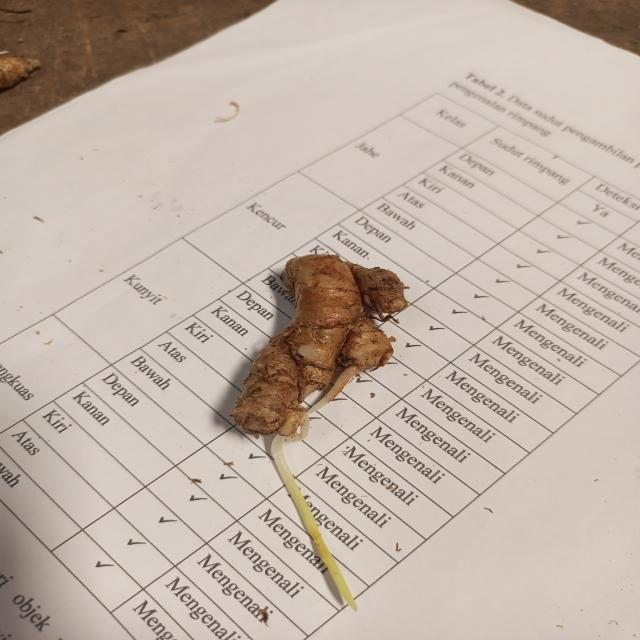ginger: (234, 256, 400, 432)
